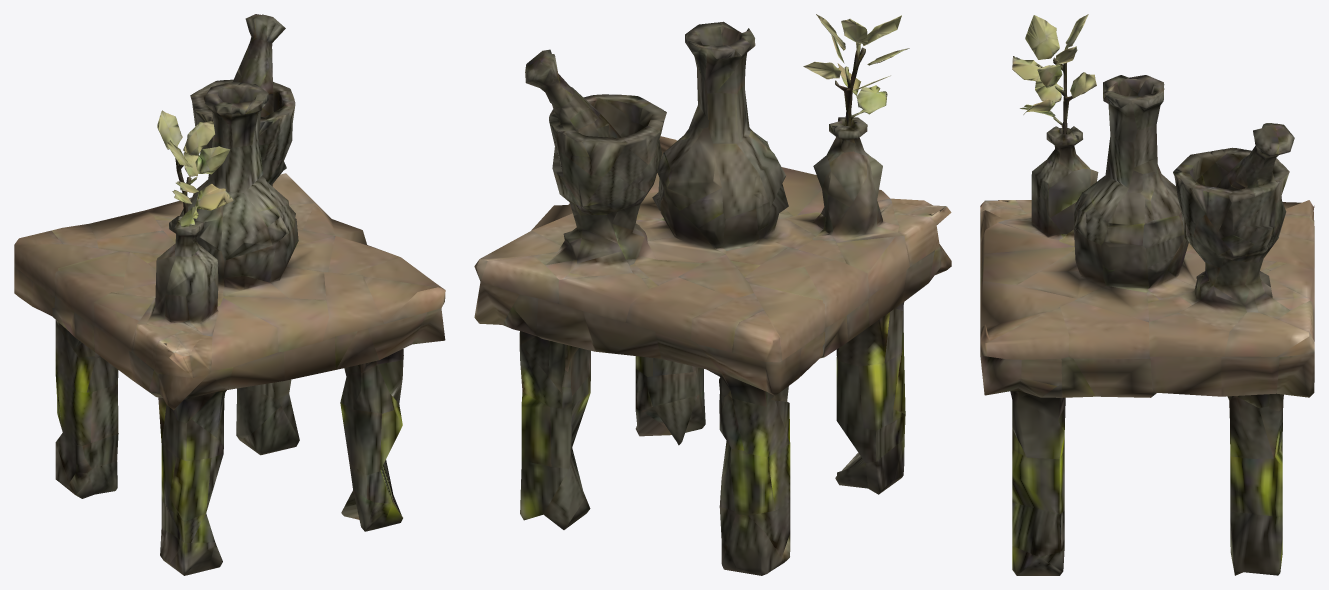
The model's file is alchemy-table.glb.
3 renders of one model, left to right at view 1: azimuth 30°, elevation 25°; view 2: azimuth 150°, elevation 25°; view 3: azimuth 270°, elevation 25°, orthographic. The views are drawn at different scales.
Parts seen in each view (by area): view 1: Mesh_0; view 2: Mesh_0; view 3: Mesh_0.
Part boxes in pixels (box(x1,y1,x2,y2)): Mesh_0: box(14, 14, 445, 575); Mesh_0: box(474, 14, 951, 575); Mesh_0: box(980, 14, 1314, 575).
Size of the model in its own units: 0.6618 by 1 by 0.6618.
Materials: 1 (1 with a texture image).
